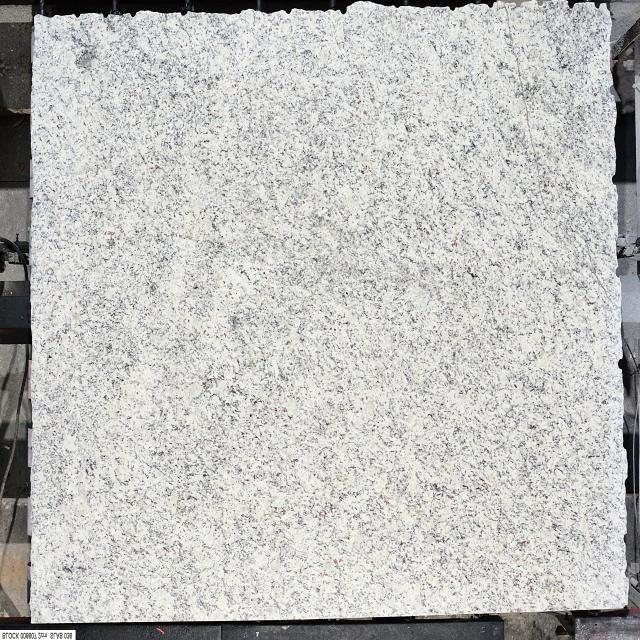veio: (616, 356, 624, 372), (338, 6, 348, 16), (611, 173, 618, 187), (609, 84, 615, 98), (593, 0, 601, 10), (567, 1, 575, 9)
